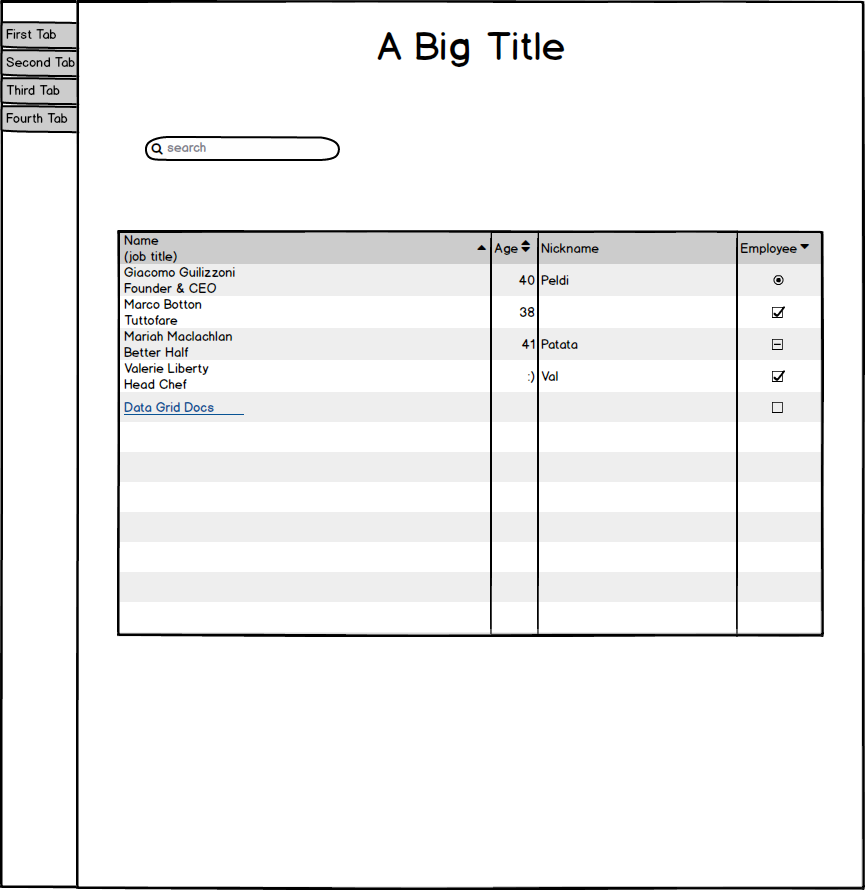h1: (356, 15, 580, 74)
search: (137, 124, 348, 169)
sidebar: (1, 13, 87, 140)
table: (103, 219, 836, 650)
